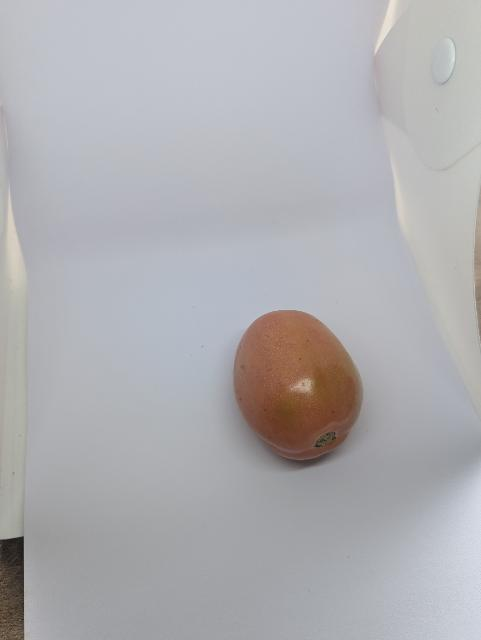turning: (224, 297, 373, 468)
